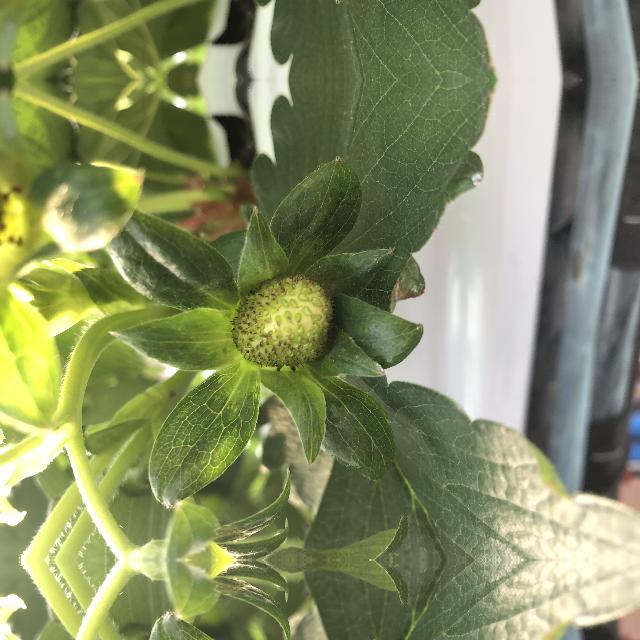Health_25: (230, 268, 342, 372)
